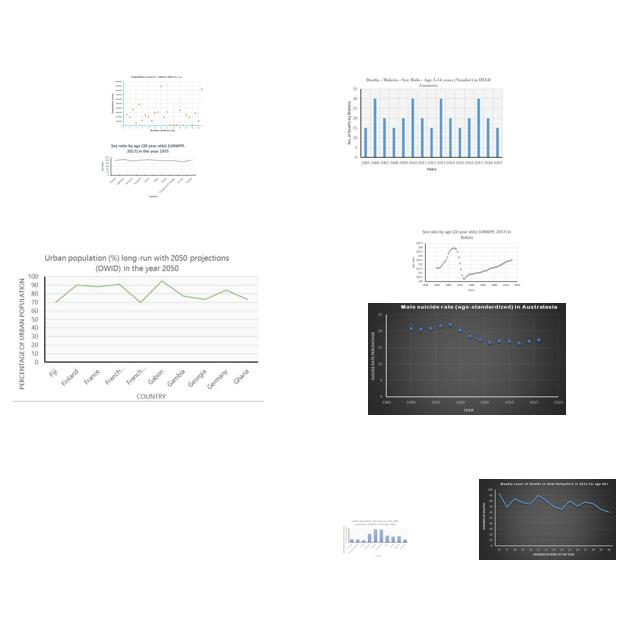Graph: (12, 250, 264, 402), (368, 303, 566, 415), (340, 73, 505, 172), (479, 479, 616, 560), (408, 226, 522, 294), (99, 142, 197, 200), (110, 75, 203, 133), (342, 519, 409, 557)
